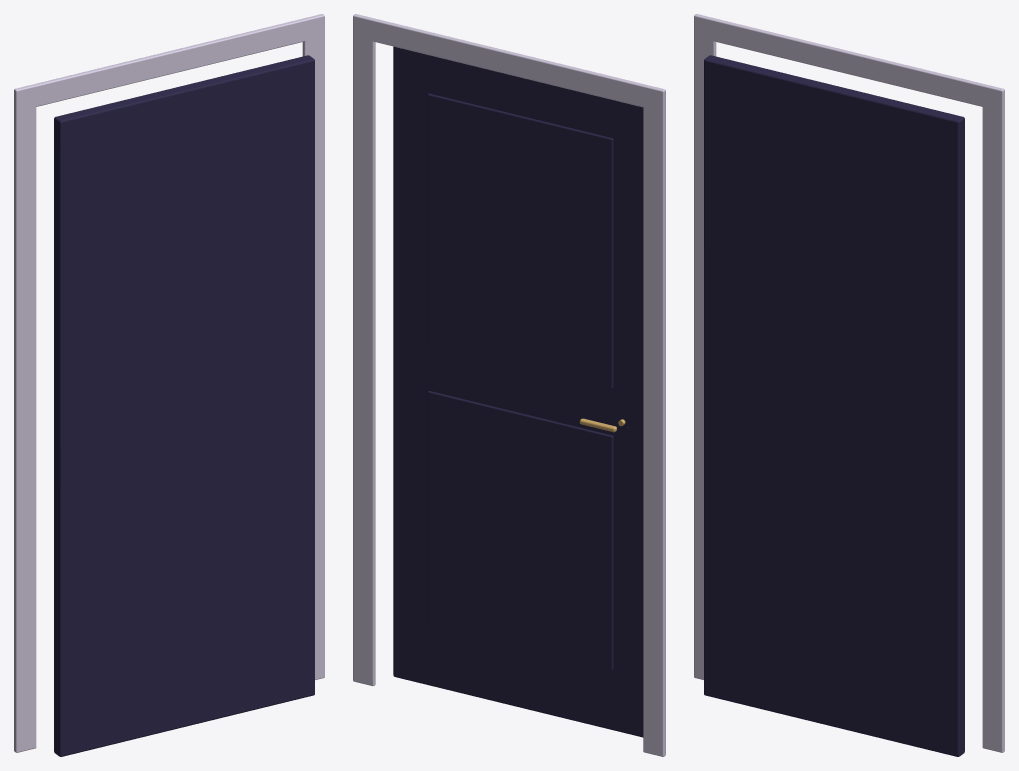
File: bedroom_door.fbx
The picture shows the model from 3 angles, left to right: view 1: azimuth 30°, elevation 25°; view 2: azimuth 150°, elevation 25°; view 3: azimuth 330°, elevation 25°; orthographic projection.
Parts seen in each view (by area): view 1: Door_Leaf, bedroom_door; view 2: Door_Leaf, bedroom_door; view 3: Door_Leaf, bedroom_door.
Boxes of the visible parts, box(x1,y1,x2,y2) form: Door_Leaf: box(54, 55, 314, 756); bedroom_door: box(14, 14, 324, 752); Door_Leaf: box(393, 46, 643, 737); bedroom_door: box(353, 14, 665, 756); Door_Leaf: box(704, 55, 964, 756); bedroom_door: box(694, 14, 1004, 752).
Bounding box in the file's own units: 1.04 × 2.13 × 0.116.
